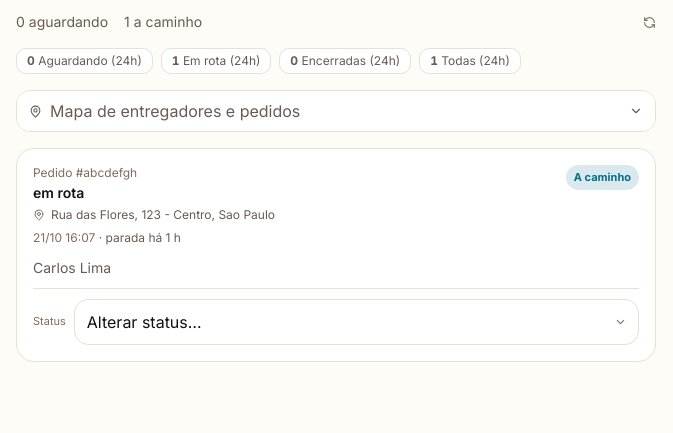
Test: DeliveriesTab — filtros das últimas 24 horas › recolhe o mapa de entregadores por padrão e o expande sob demanda
Click the button with test id "deliveries-map-toggle": (175, 111) [17,91,655,131]
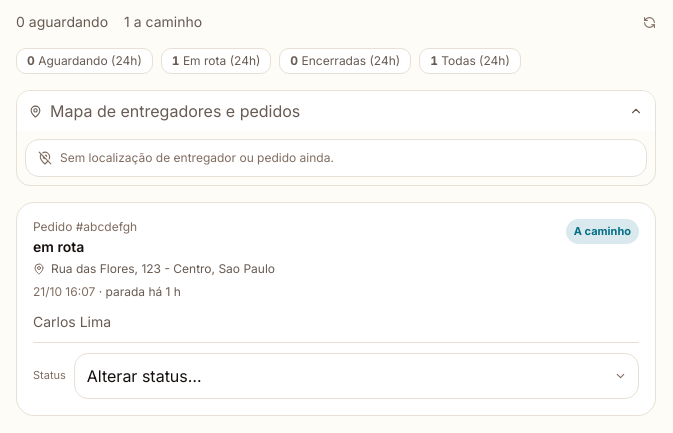
Now the button with test id "deliveries-map-toggle" is expanded, box [17,91,655,131]
Now the element with test id "deliveries-map-empty" is shown, box [25,139,647,177]
